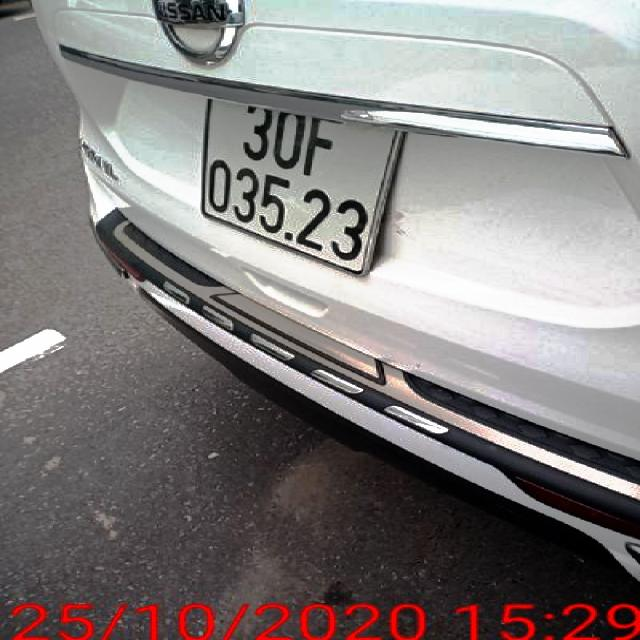license_plate: (202, 96, 403, 269)
